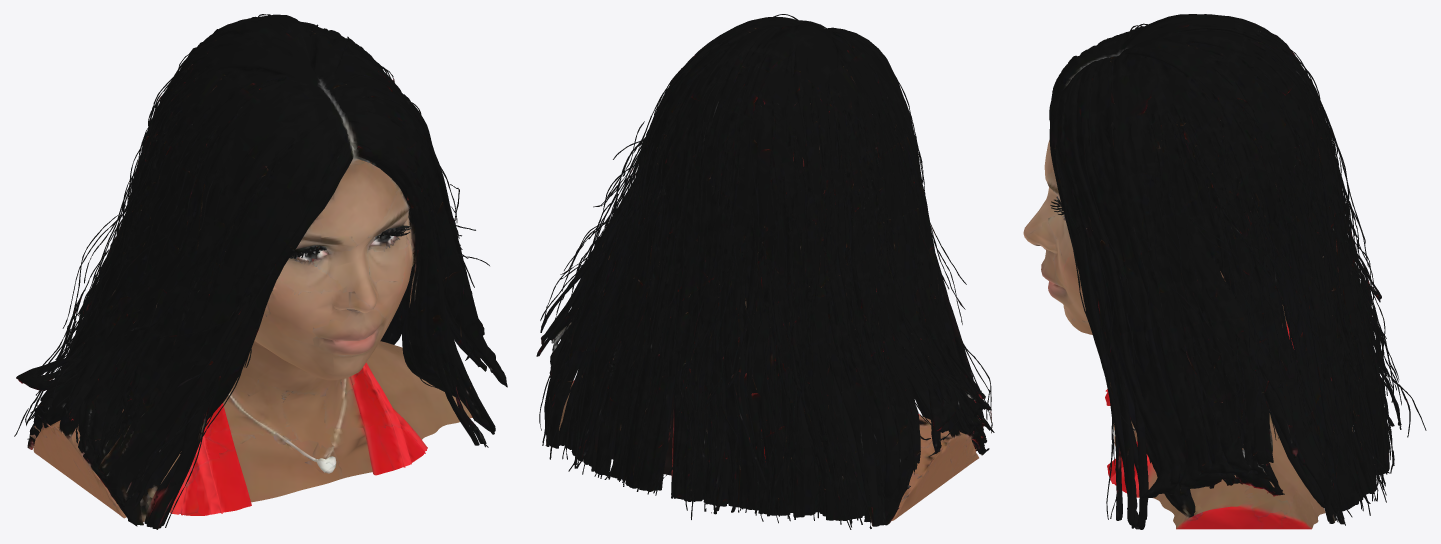
Rendered from toni-braxton-face.glb.
The picture shows the model from 3 angles, left to right: view 1: azimuth 30°, elevation 25°; view 2: azimuth 150°, elevation 25°; view 3: azimuth 270°, elevation 25°; orthographic projection. The views are drawn at different scales.
Bounding box in the file's own units: 1.51 × 1.43 × 1.25.
1 material, 1 textured.
